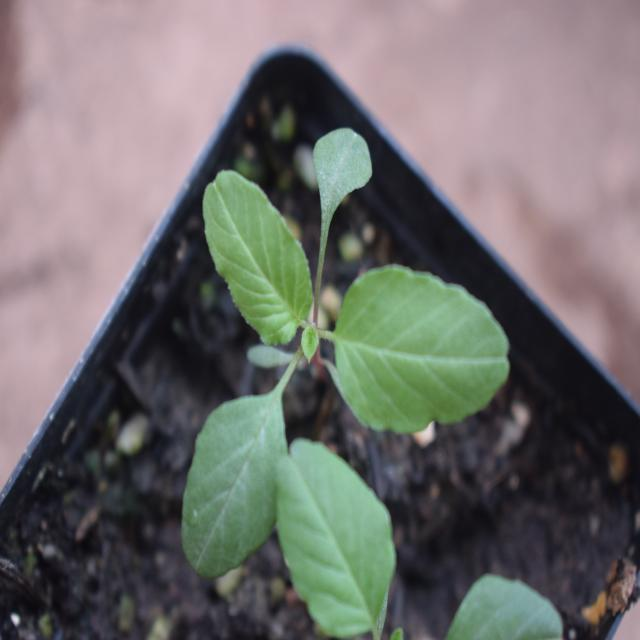pigweed: (171, 148, 512, 567)
